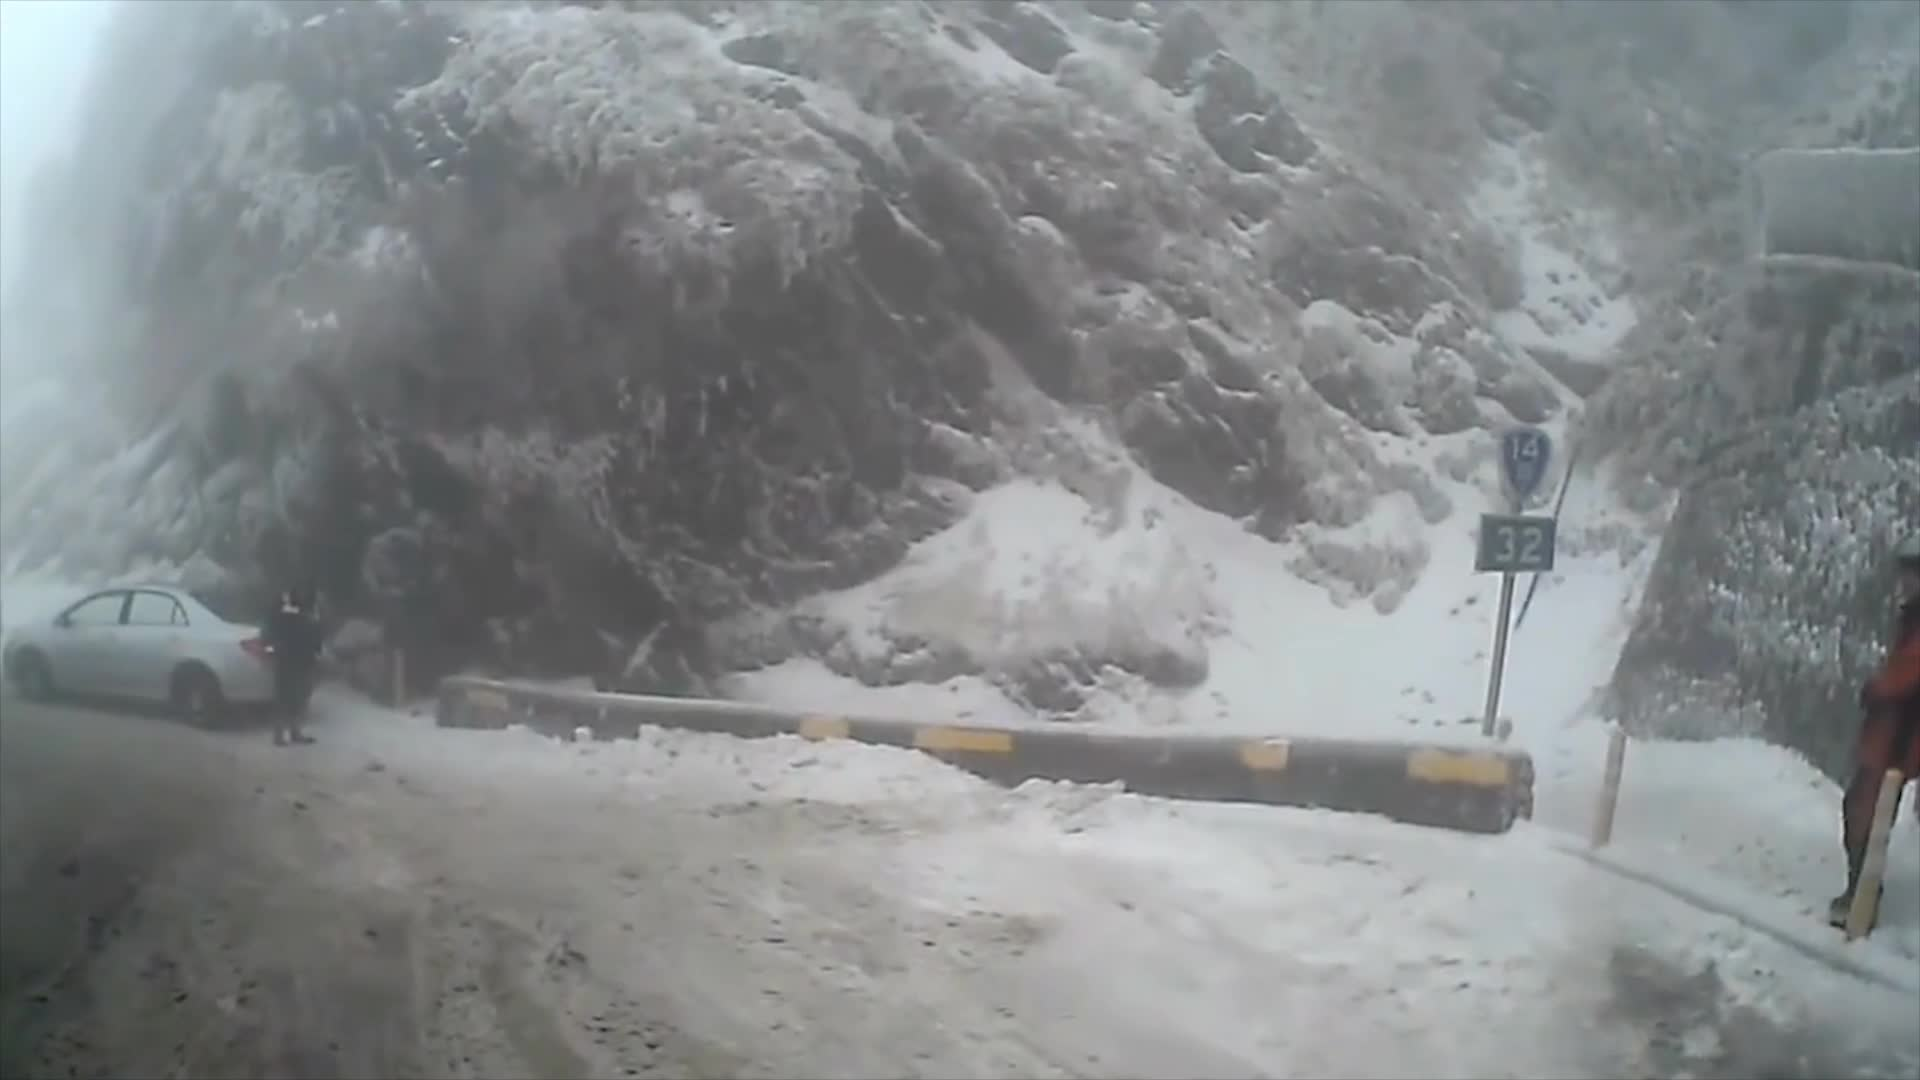pedestrian: (1815, 504, 1919, 944), (266, 571, 328, 743)
vehicle: (4, 577, 308, 726)
